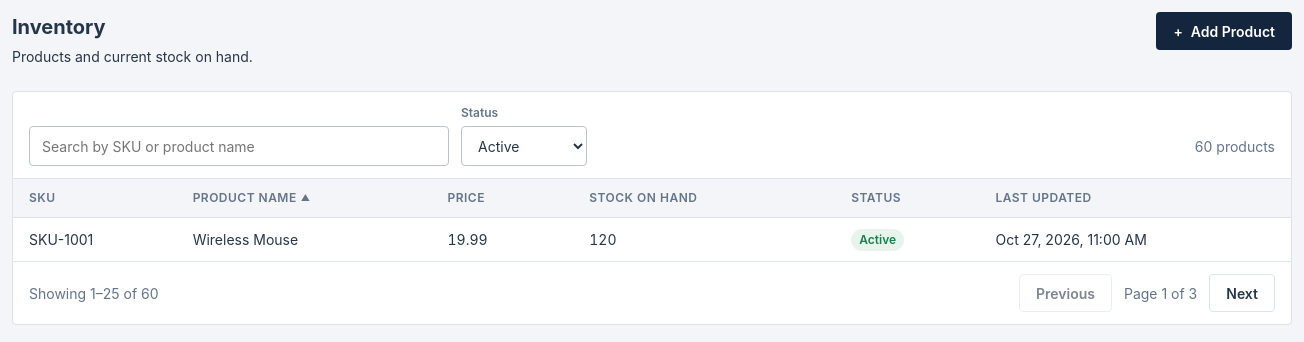
Test case: pagination › shows the range, disables Previous on page 1, and moves between pages
Check: the text "Showing 1–25 of 60" is shown, box [29,282,159,304]
Check: the text "Page 1 of 3" is shown, box [1124,282,1197,304]
Click the button "Next" at (1242, 293), box [1209,274,1275,312]
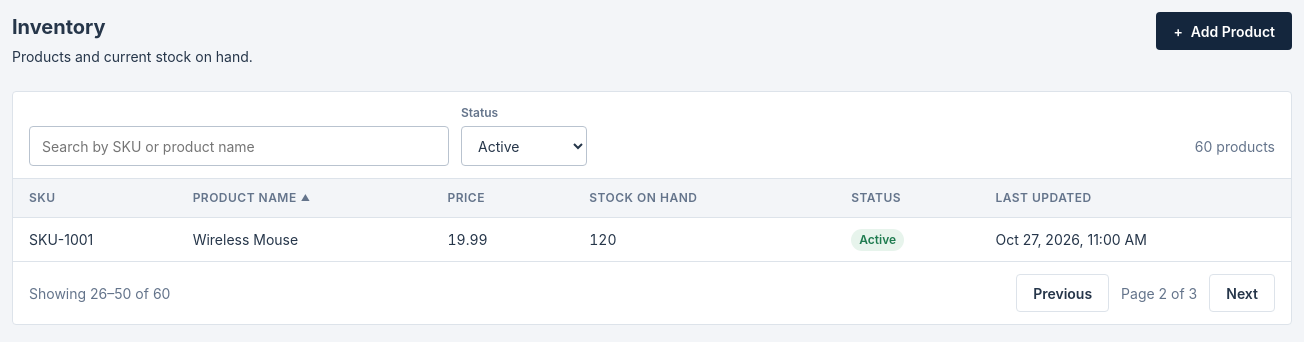
Check: the text "Showing 26–50 of 60" is shown, box [29,282,170,304]
Click the button "Next" at (1242, 293), box [1209,274,1275,312]
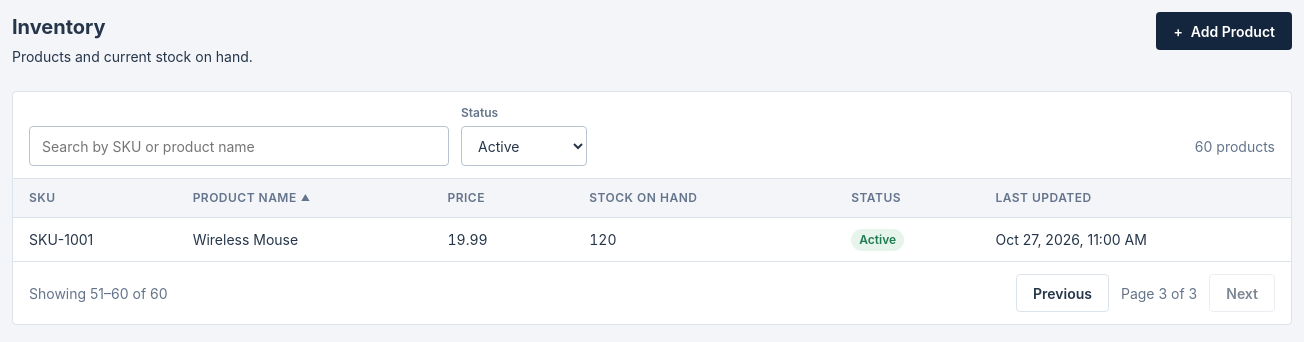
Check: the text "Showing 51–60 of 60" is shown, box [29,282,168,304]
Check: the button "Next" is disabled, box [1209,274,1275,312]
Click the button "Previous" at (1062, 293), box [1016,274,1109,312]
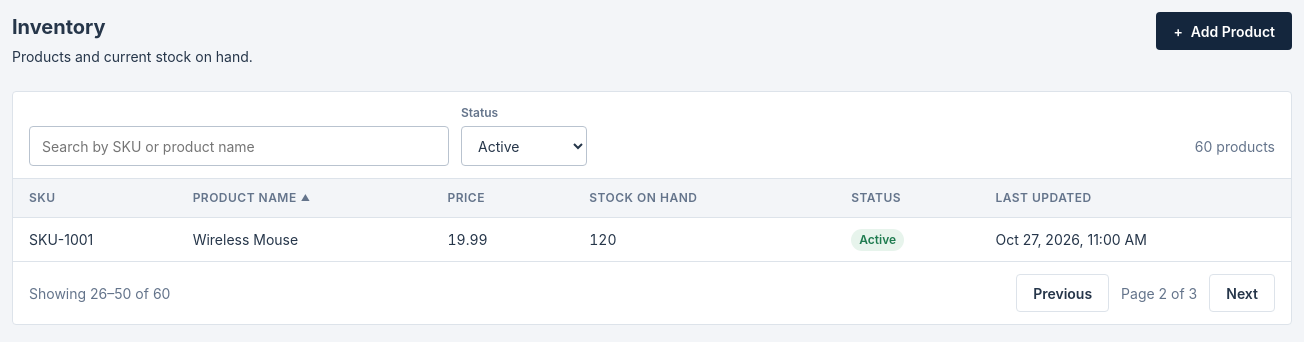
Check: the text "Showing 26–50 of 60" is shown, box [29,282,170,304]
